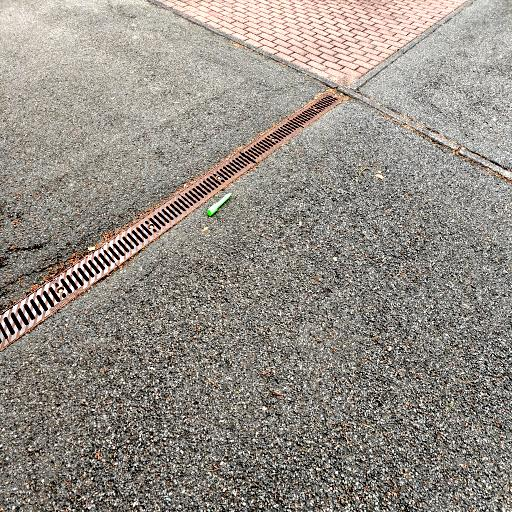Probe-Detection: (208, 193, 232, 216)
